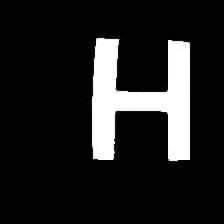LTR_H: (86, 25, 201, 172)
